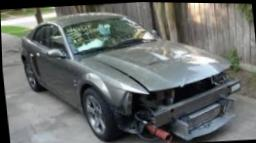Bumper: (110, 106, 183, 138)
Fender: (102, 83, 131, 113)
Light: (129, 87, 170, 116)
